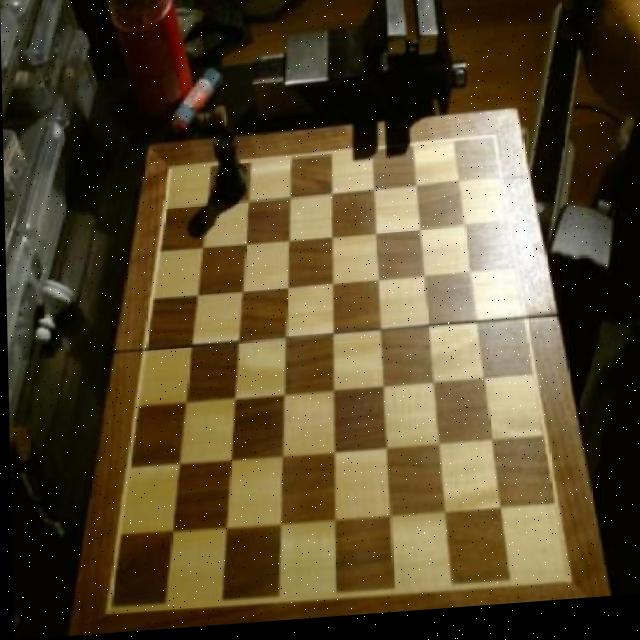black-queen: (209, 136, 249, 206)
